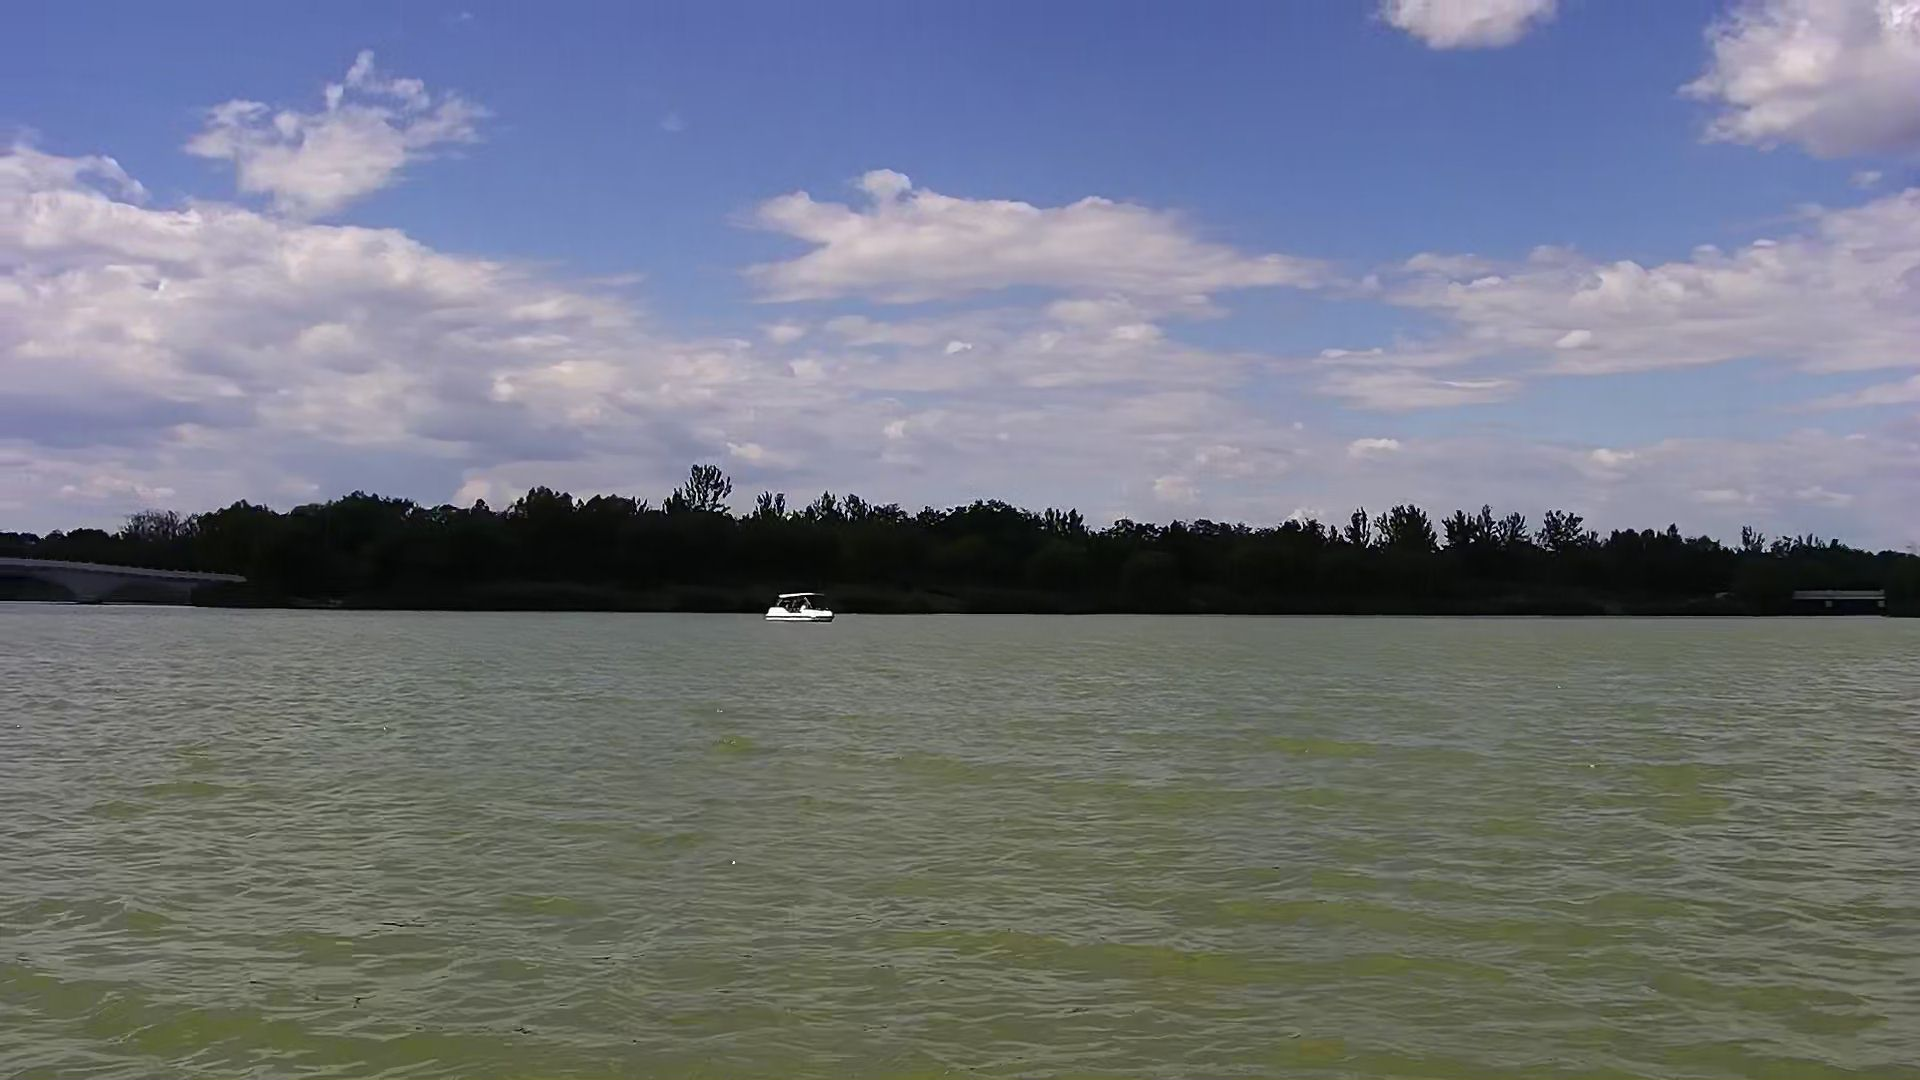boat: (764, 587, 845, 630)
bridge: (1, 550, 233, 611)
